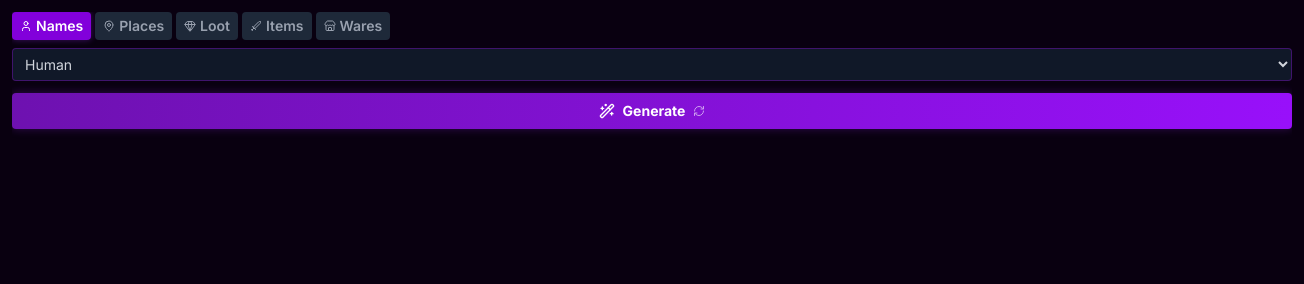
OracleWidget — Wares tab › rolls from the selected shop's own table, not the default
Step 1. Click the button "Wares" → point(353, 26), box [316,12,390,40]
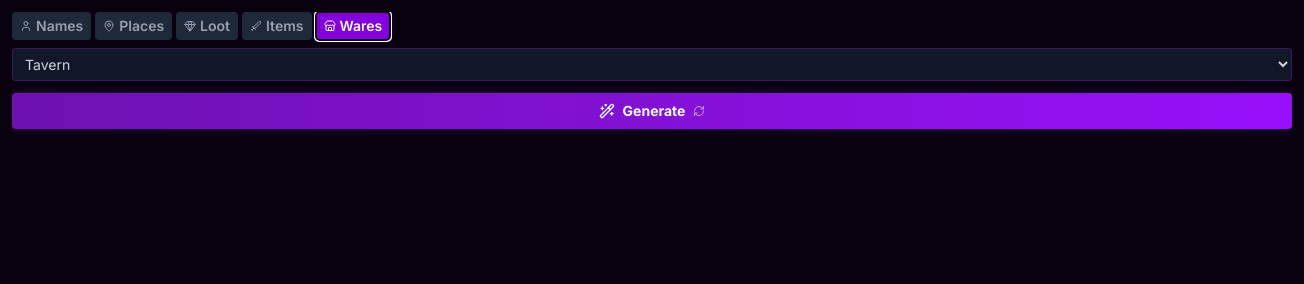
Step 2. Select "Blacksmith" in the dropdown → point(652, 64), box [12,48,1292,81]
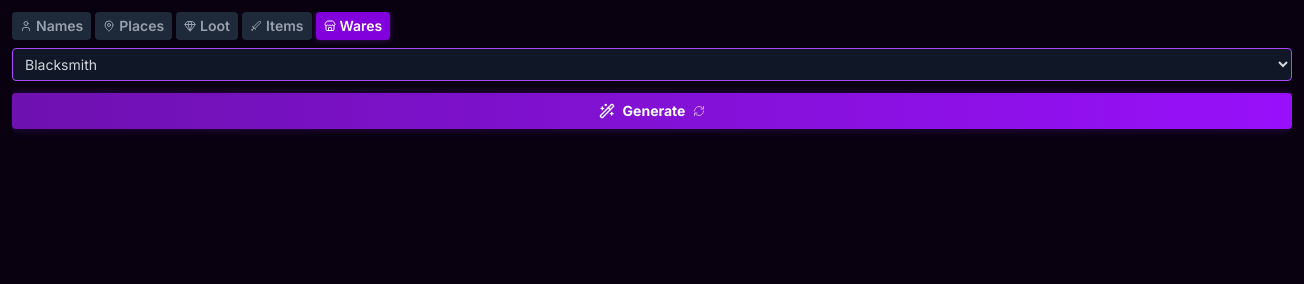
Step 3. Click the button "Generate" → point(652, 111), box [12,93,1292,129]
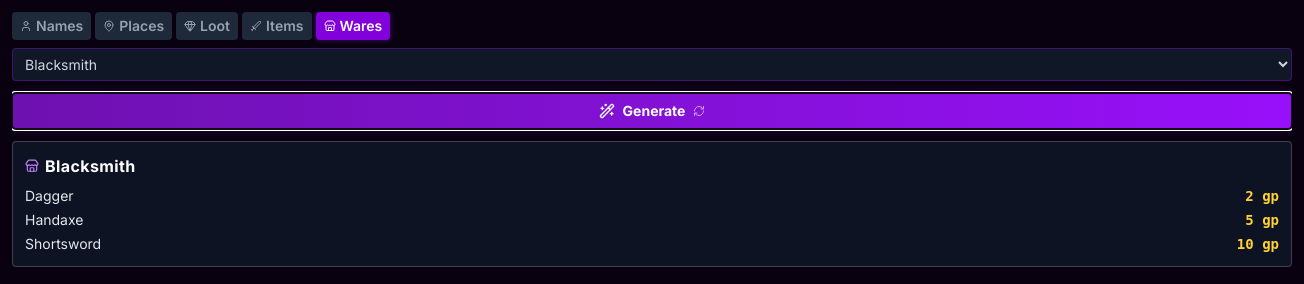
Check: the text "Blacksmith" is shown, box [45,154,136,178]
Check: the text "Dagger" is shown, box [25,186,74,206]
Check: the text "Handaxe" is shown, box [25,210,84,230]
